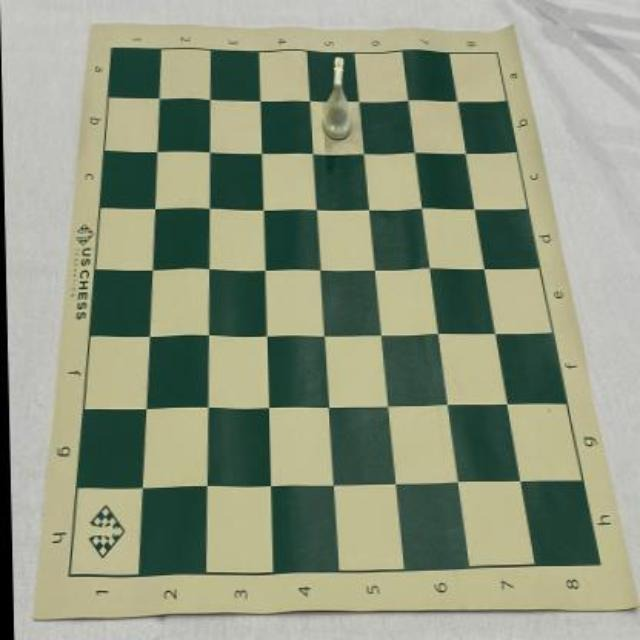white-knight: (319, 56, 352, 142)
